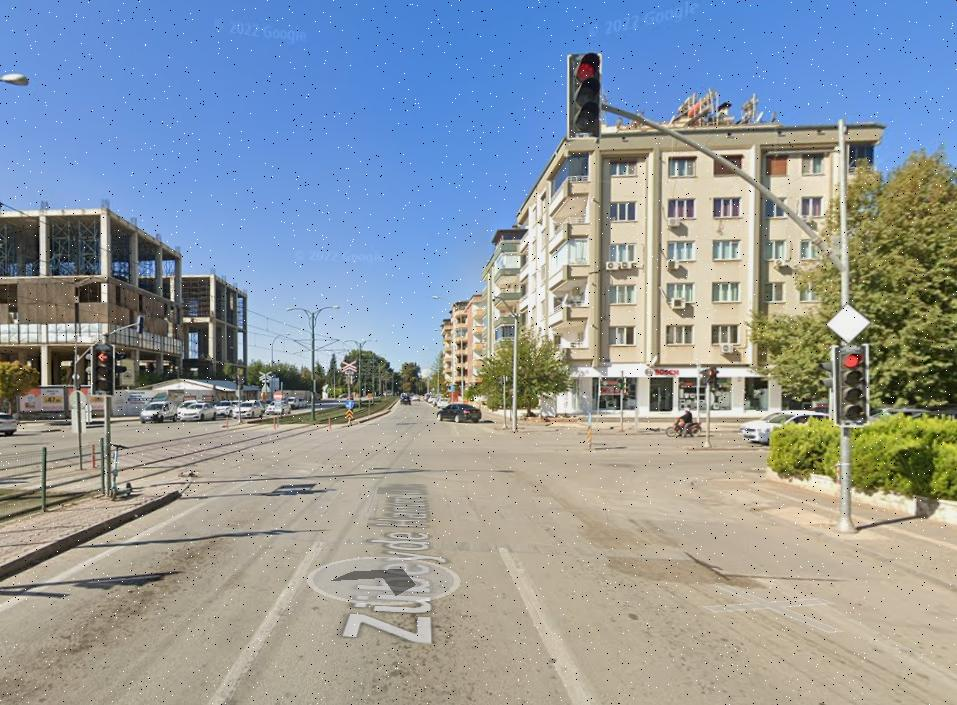redlight: (565, 49, 602, 139), (839, 343, 866, 422), (90, 344, 112, 396)
